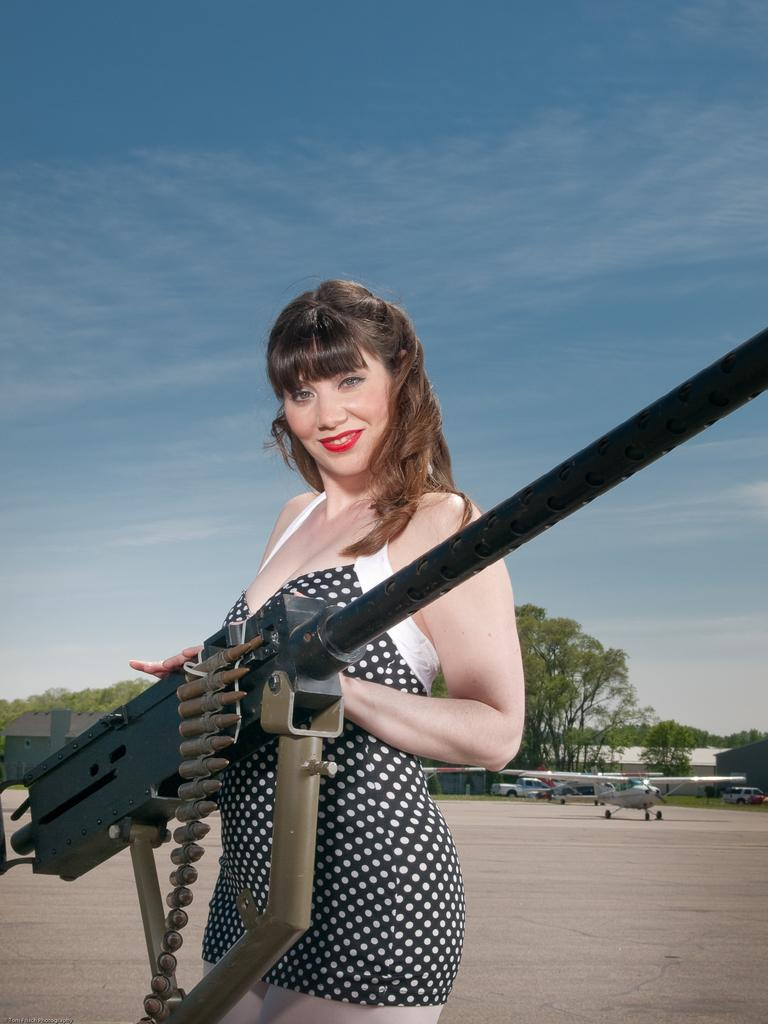Rifle: (0, 324, 767, 1023)
